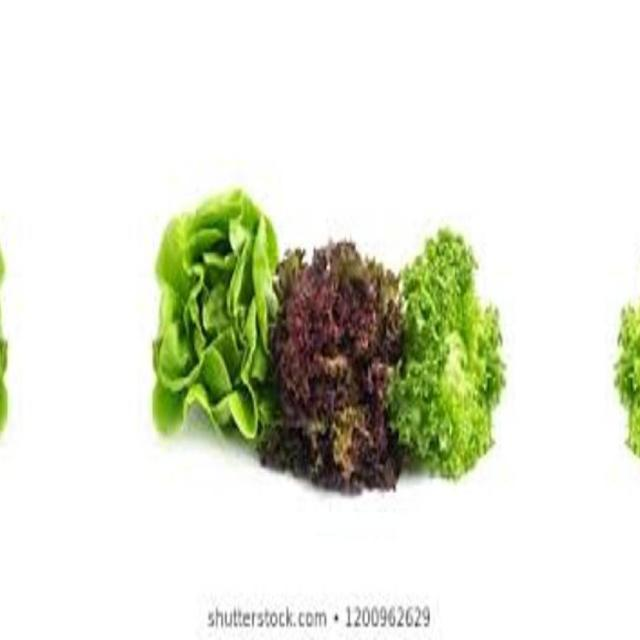healthy: (149, 184, 279, 442), (391, 223, 505, 483), (615, 223, 640, 483), (0, 184, 11, 442)
